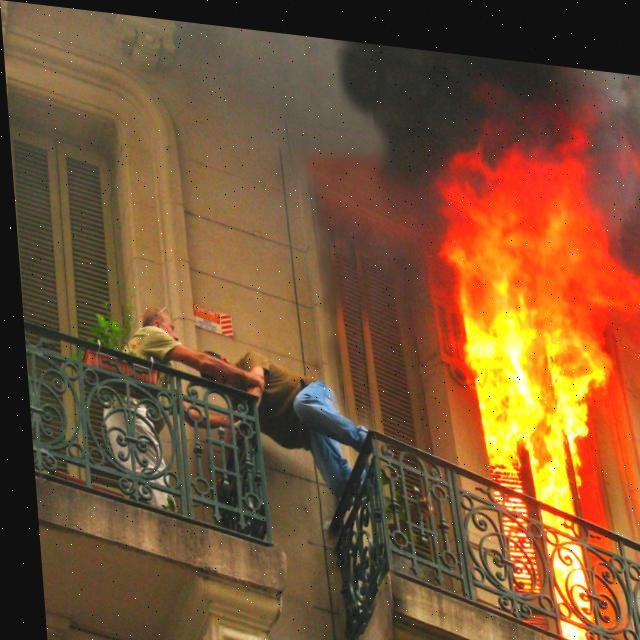Fire: (427, 109, 639, 639)
